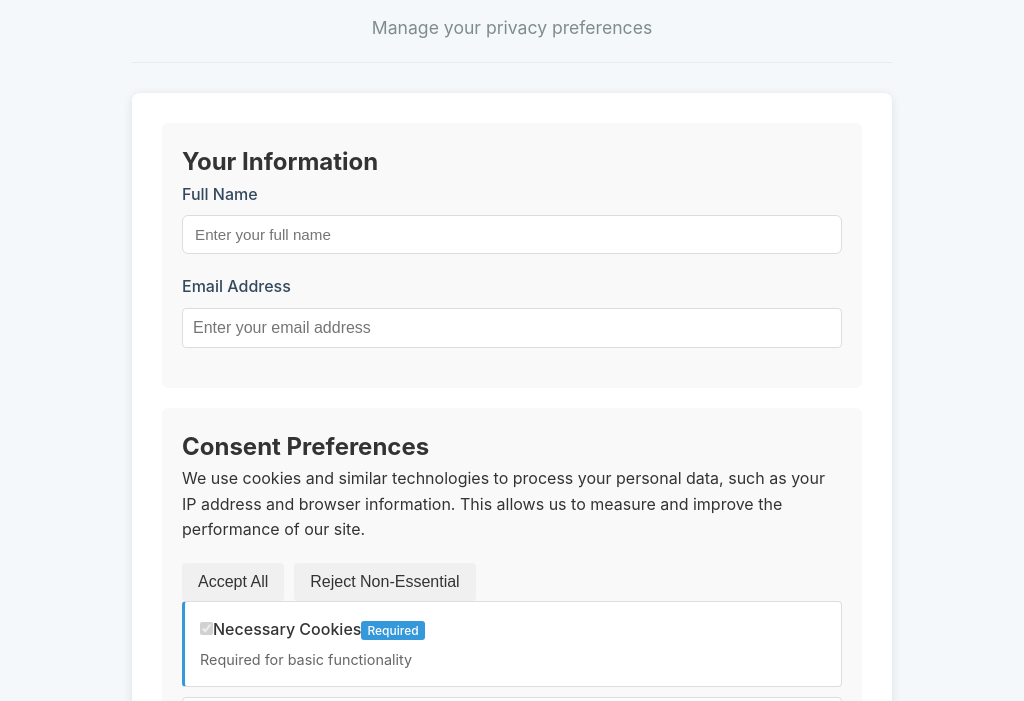
Test case: App Component › handles API errors gracefully
Type "John Doe" into the field labelled "Full Name" at (512, 235), box [182,215,842,254]
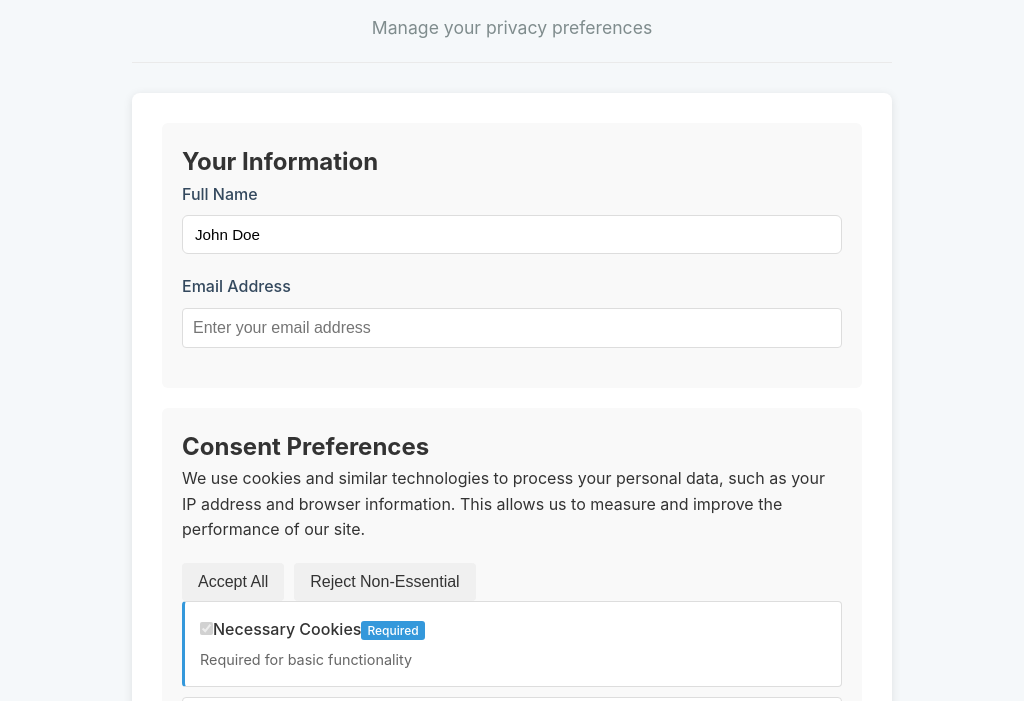
Type "john@example.com" into the field labelled "Email Address" at (512, 328), box [182,308,842,348]
(page scrolled)
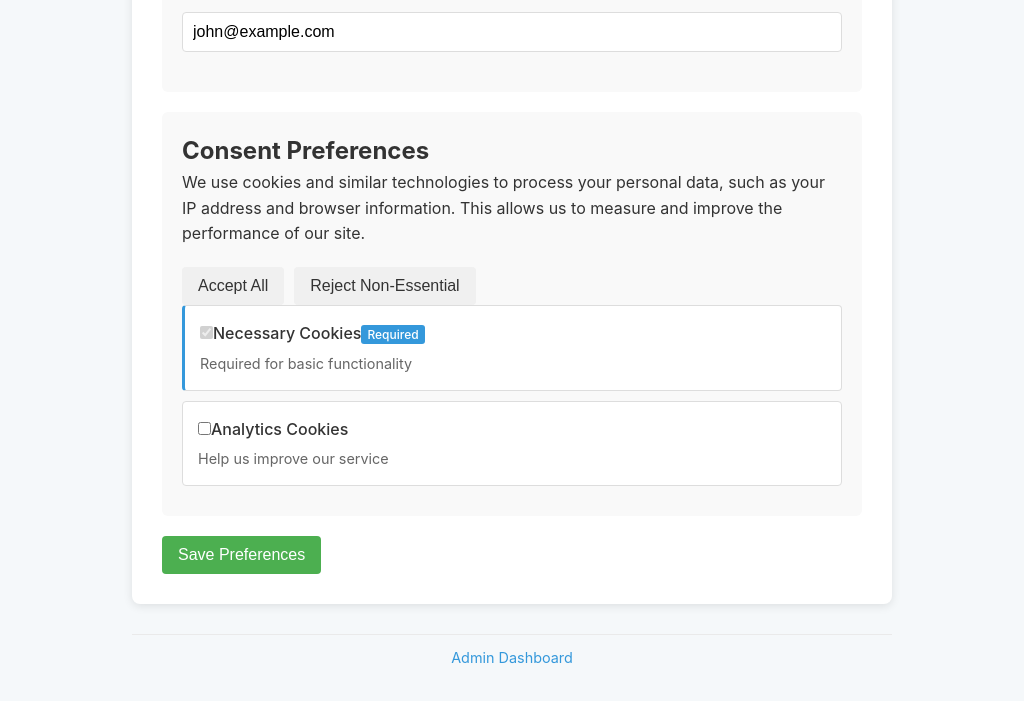
Click the button "Save Preferences" at (242, 555), box [162,536,321,574]
(page scrolled)
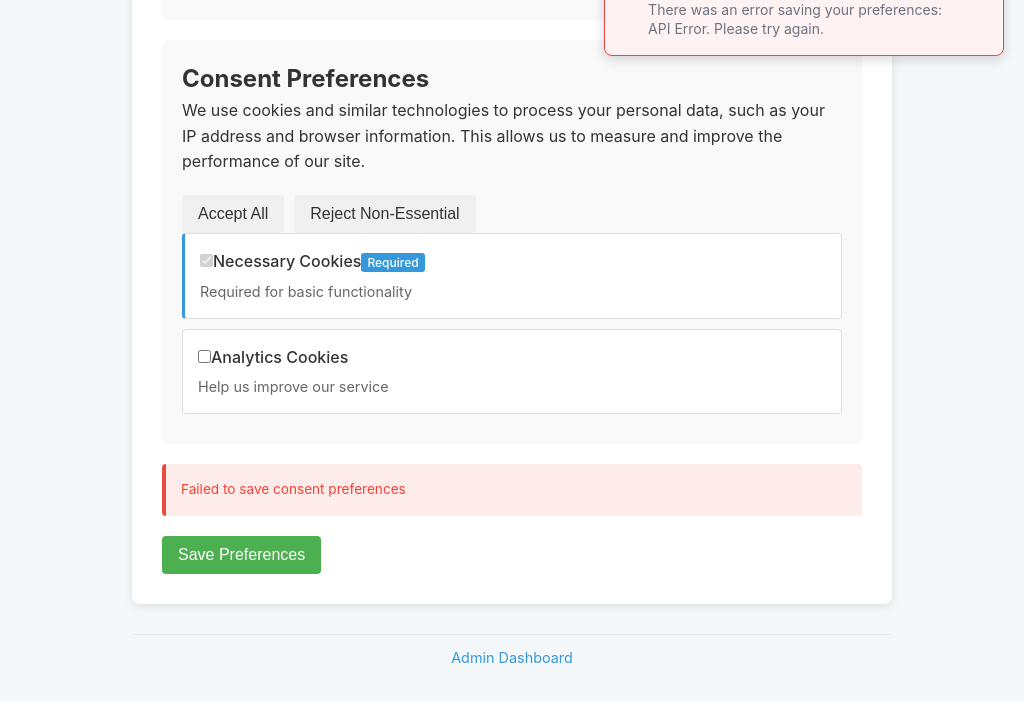
Check: the text "Failed to save consent preferences" is shown, box [162,464,862,516]
